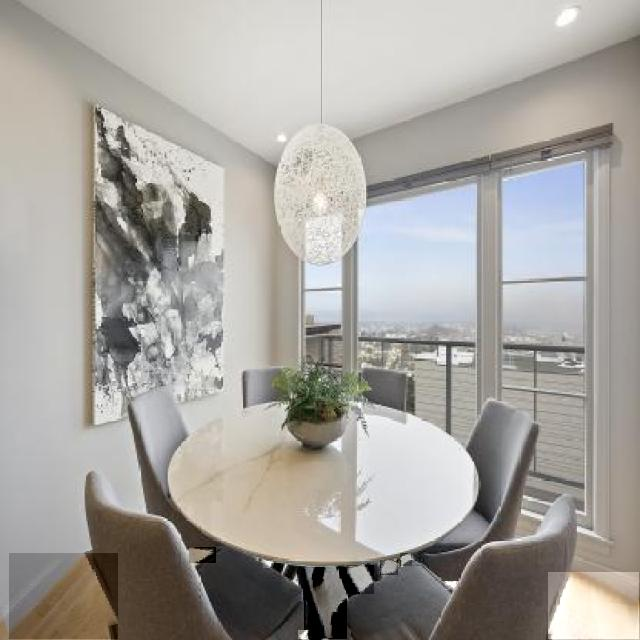floor: (9, 553, 118, 640), (549, 572, 639, 639), (304, 568, 347, 639), (346, 565, 374, 594), (189, 548, 216, 563), (380, 561, 398, 575), (401, 554, 412, 566), (445, 582, 458, 590), (299, 631, 308, 639), (263, 561, 273, 568), (293, 574, 298, 584)
